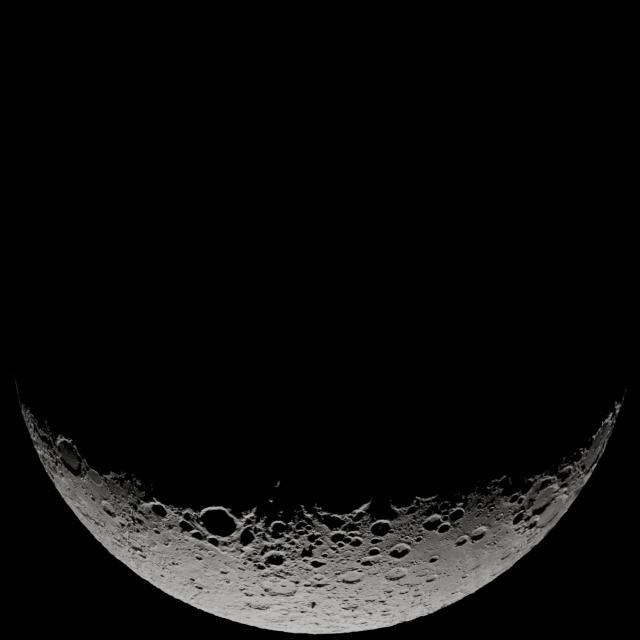crater: (57, 439, 83, 473), (367, 498, 395, 522), (322, 512, 346, 530), (262, 550, 287, 567), (85, 468, 105, 489), (422, 513, 444, 531), (369, 520, 392, 537), (238, 527, 257, 547), (388, 542, 411, 558), (384, 567, 408, 581), (269, 520, 287, 538), (448, 507, 466, 523), (340, 570, 364, 582), (149, 502, 168, 517), (470, 526, 488, 540), (178, 519, 196, 533), (330, 531, 347, 544), (188, 530, 205, 542), (454, 534, 469, 546), (254, 562, 267, 570), (429, 555, 440, 563), (152, 527, 162, 535), (414, 535, 424, 543), (194, 554, 204, 561), (90, 494, 96, 501)
rock: (496, 475, 515, 493), (306, 543, 327, 559), (244, 599, 273, 610), (345, 533, 365, 548), (558, 465, 574, 481), (339, 600, 360, 612), (522, 477, 536, 493), (527, 514, 541, 529), (299, 545, 315, 558), (237, 586, 255, 597), (512, 512, 526, 526), (102, 504, 116, 518), (403, 503, 419, 515), (306, 533, 322, 545), (309, 559, 327, 569), (345, 522, 361, 533), (132, 547, 147, 558), (367, 546, 383, 556), (500, 550, 514, 561), (449, 588, 464, 598), (414, 569, 430, 578), (508, 492, 521, 503), (369, 536, 383, 546), (312, 581, 329, 589), (207, 537, 220, 547), (360, 558, 376, 566), (192, 581, 206, 590), (382, 587, 394, 596), (218, 567, 230, 575), (425, 575, 437, 583), (290, 579, 302, 585), (460, 573, 469, 580), (189, 576, 198, 582)
